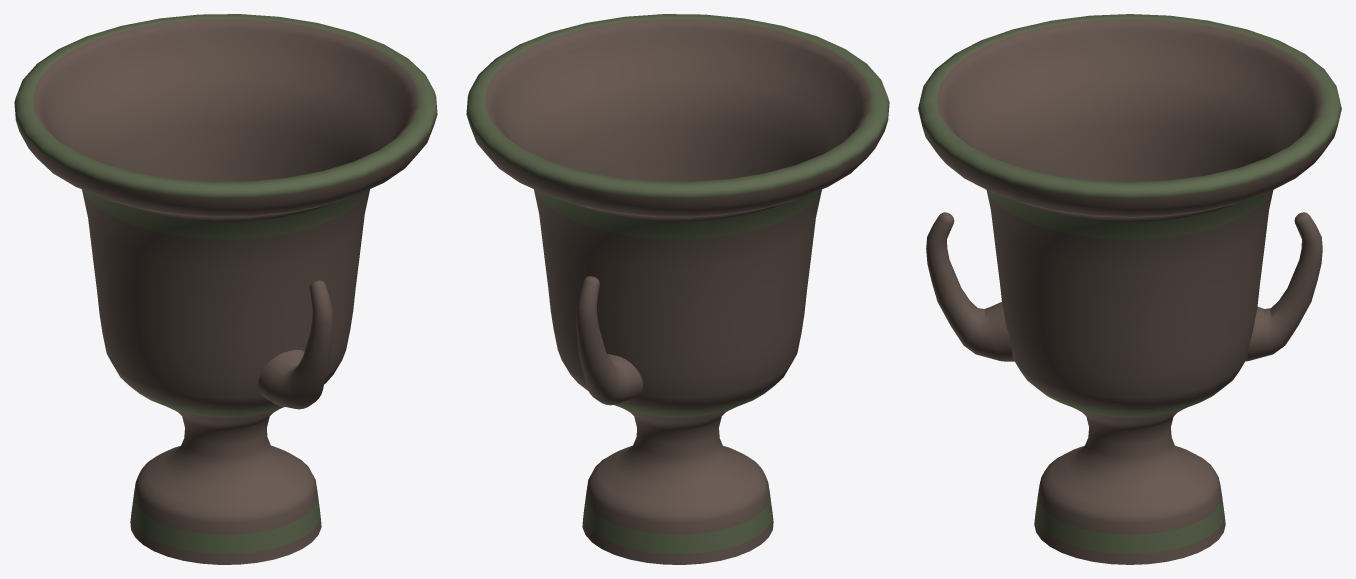
Rendered from pot05.fbx.
3 renders of one model, left to right at view 1: azimuth 30°, elevation 25°; view 2: azimuth 150°, elevation 25°; view 3: azimuth 270°, elevation 25°, orthographic.
Parts seen in each view (by area): view 1: pot05; view 2: pot05; view 3: pot05.
Part boxes in pixels (bbox=[...]): pot05: bbox=[14, 14, 437, 564]; pot05: bbox=[466, 14, 889, 564]; pot05: bbox=[918, 14, 1341, 564].
Size of the model in its own units: 0.5769 by 0.6369 by 0.5769.
